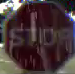Stop: (2, 0, 73, 73)
